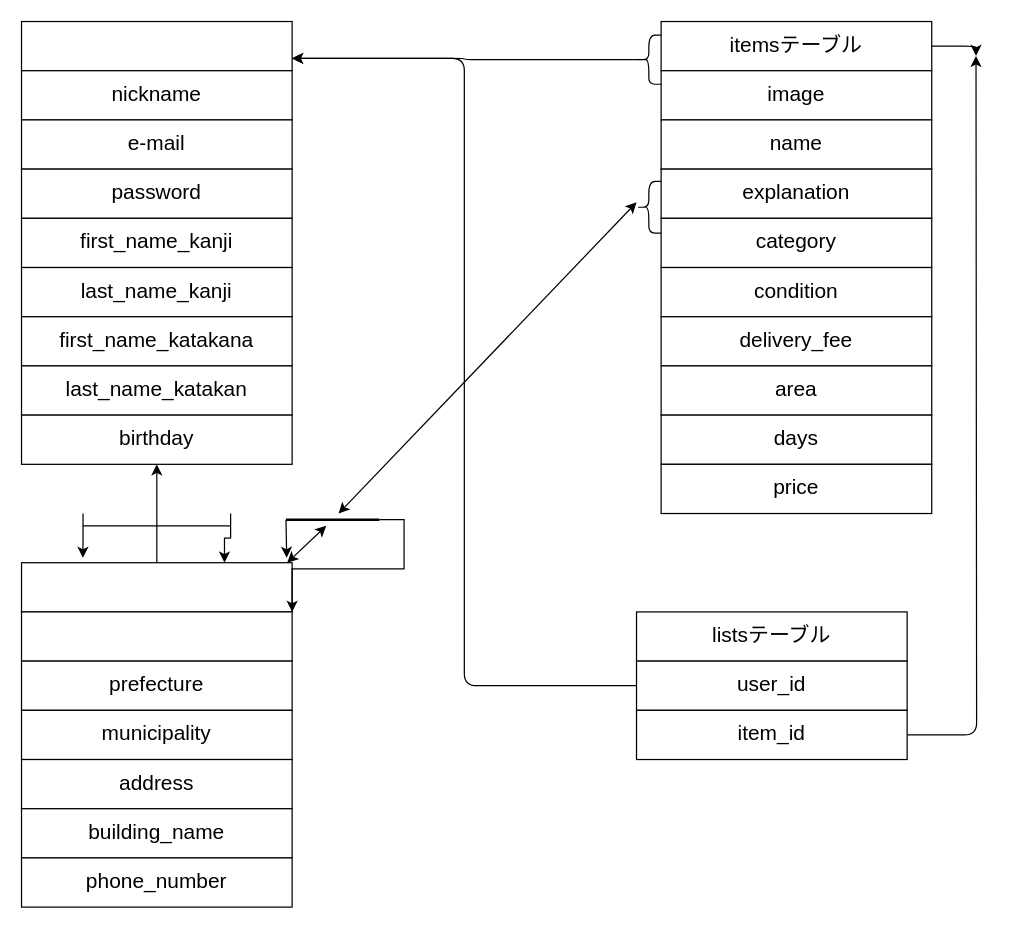
The diagram is 1009 pixels wide and 929 high, and some of its shapes have lost their labels. The centre of each missing label's shape, as x and y in pixels:
"informationテーブル" goes at [156,586].
"postal_code" goes at [156,636].
"usresテーブル" goes at [156,45].
